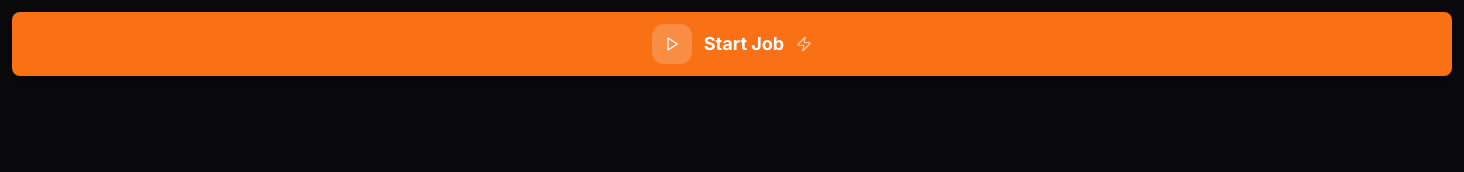
JobStatusUpdater feedback › shows an inline failure + Retry that re-runs the update
Click the button "Start Job": (732, 44) top-left (12, 12), bottom-right (1452, 76)
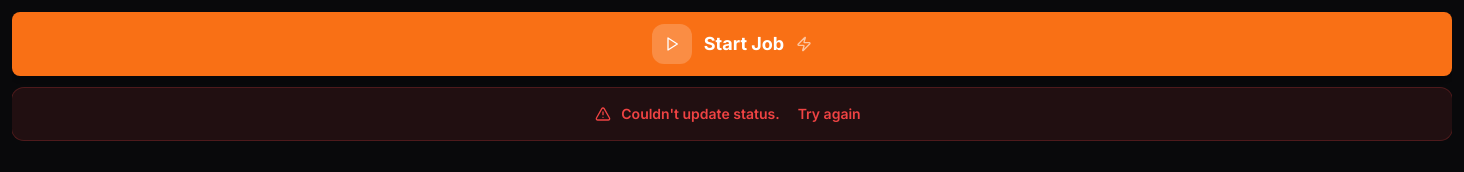
Expected: the text "Couldn't update status." is shown, top-left (621, 104), bottom-right (780, 124)
Click the button "Try again": (829, 114) top-left (790, 100), bottom-right (869, 128)
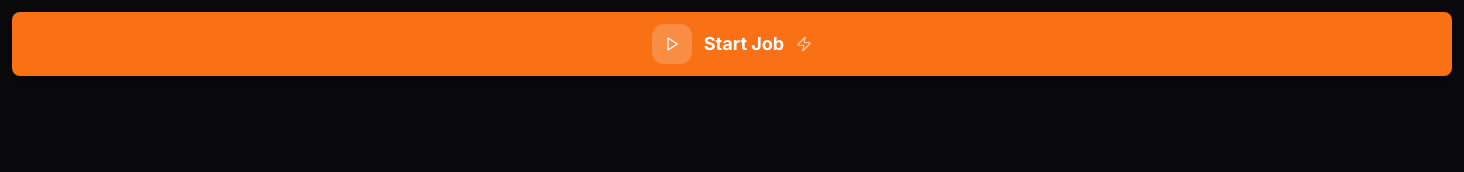
Expected: the text "Couldn't update status" is gone
